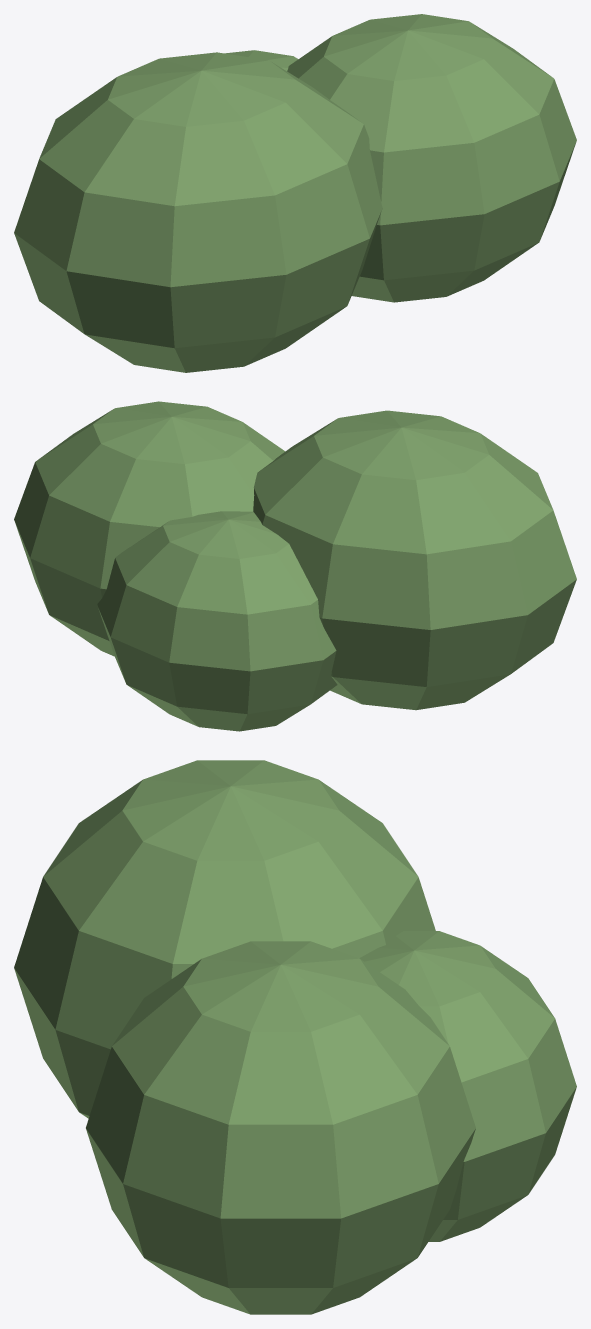
The model's file is norway-shrub_lod0.glb.
3 renders of one model, top to bottom at view 1: azimuth 30°, elevation 25°; view 2: azimuth 150°, elevation 25°; view 3: azimuth 270°, elevation 25°, orthographic. The views are drawn at different scales.
Parts seen in each view (by area): view 1: RF_Shrub0, RF_Shrub1, RF_Shrub2; view 2: RF_Shrub0, RF_Shrub2, RF_Shrub1; view 3: RF_Shrub1, RF_Shrub0, RF_Shrub2.
Boxes of the visible parts, <box> form: RF_Shrub0: <box>14,52,382,372</box>; RF_Shrub1: <box>287,14,576,302</box>; RF_Shrub2: <box>224,50,298,70</box>; RF_Shrub0: <box>253,410,576,710</box>; RF_Shrub2: <box>97,511,337,731</box>; RF_Shrub1: <box>14,401,284,656</box>; RF_Shrub1: <box>86,941,475,1314</box>; RF_Shrub0: <box>14,760,435,1118</box>; RF_Shrub2: <box>359,931,576,1241</box>.
Size of the model in its own units: 4.71 by 2.42 by 3.38.
